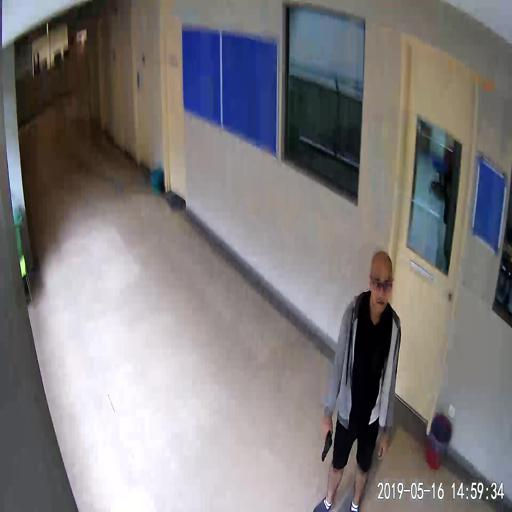pistol: (321, 423, 333, 462)
